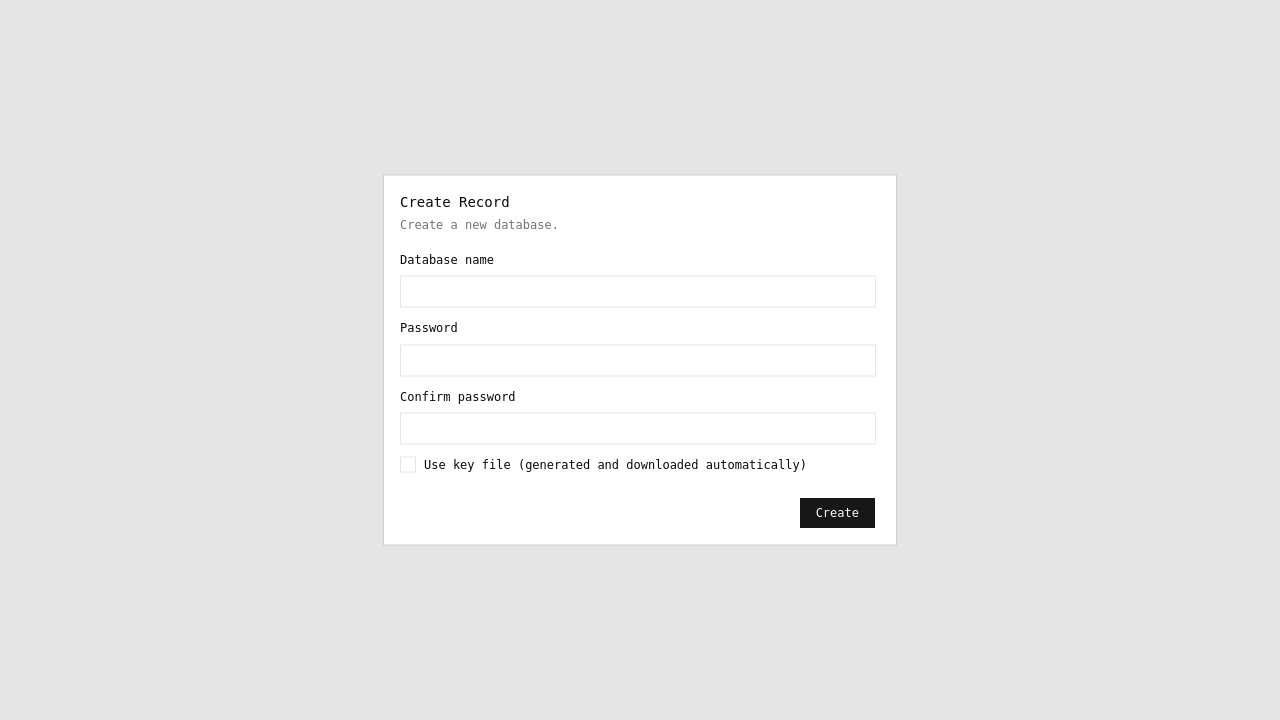
new-database-dialog › NewDatabaseDialog › requires a database name, password and password confirmation
The width and height of the screenshot is (1280, 720).
Click the button "Create" at (837,512), box x1=799 y1=496 x2=876 y2=528
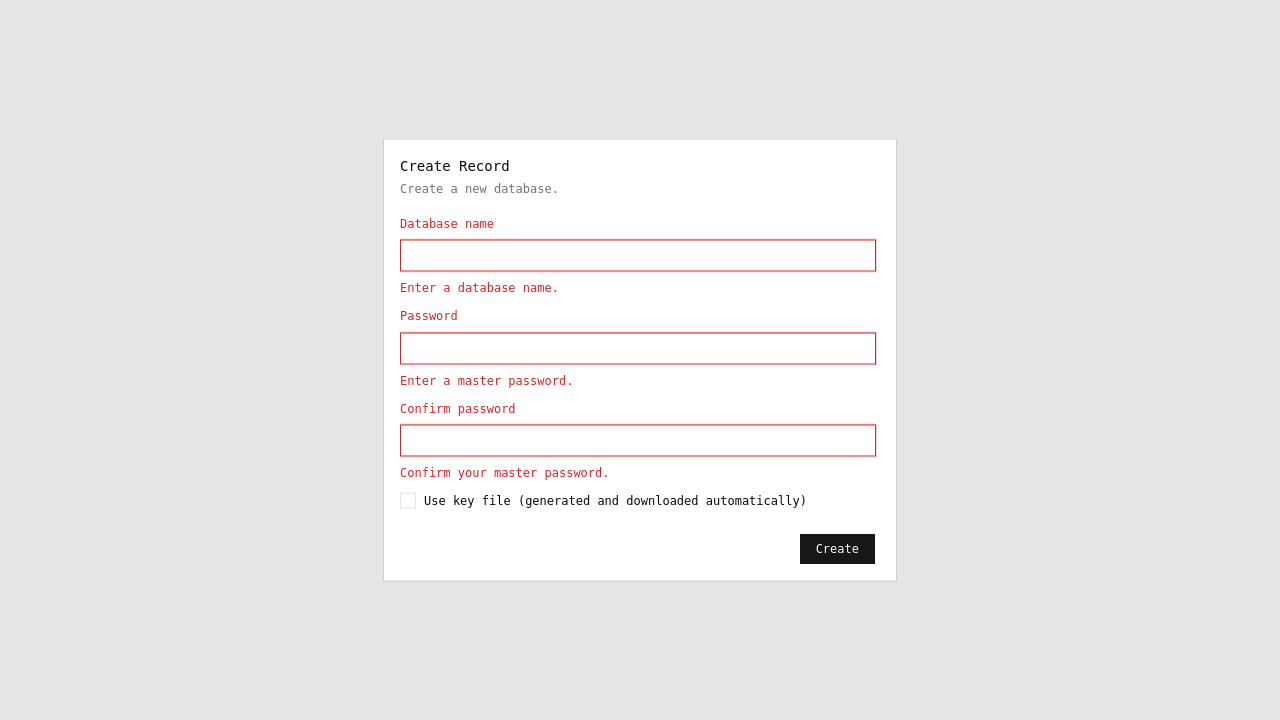
Now the text "Enter a database name." is shown, box x1=400 y1=280 x2=559 y2=294
Now the text "Enter a master password." is shown, box x1=400 y1=373 x2=573 y2=387
Now the text "Confirm your master password." is shown, box x1=400 y1=466 x2=610 y2=480
